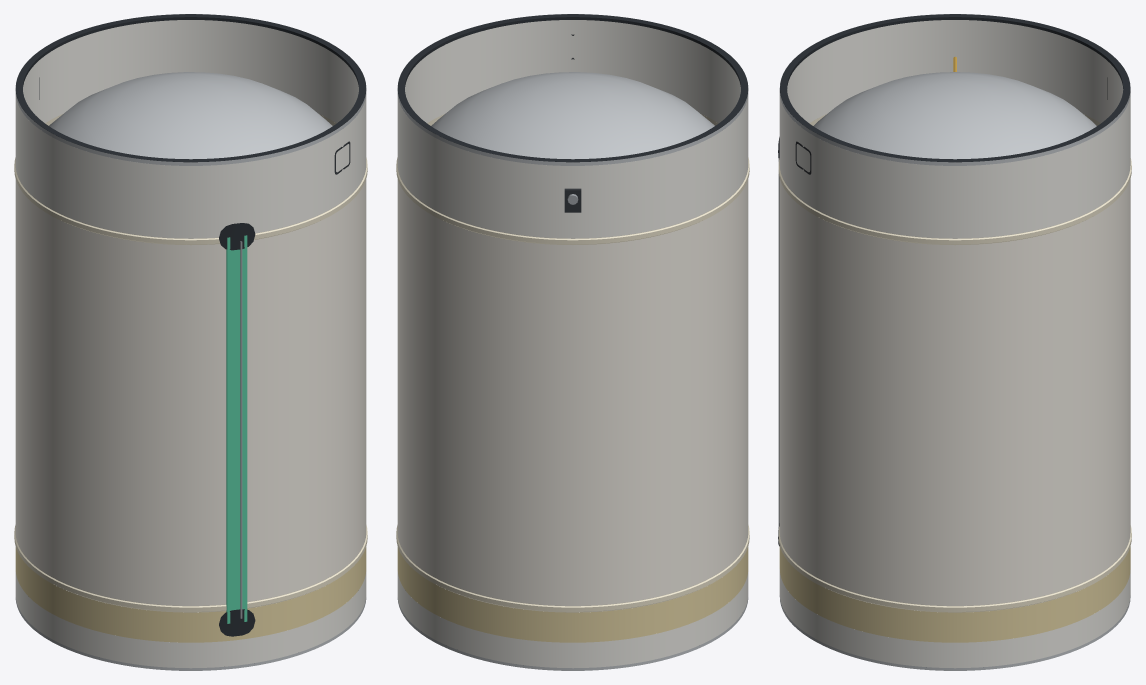
Rendered from dcss_lh2.glb.
3 renders of one model, left to right at view 1: azimuth 30°, elevation 25°; view 2: azimuth 150°, elevation 25°; view 3: azimuth 270°, elevation 25°, orthographic.
Visible parts, largest first — view 1: shell, detail, slot_bulkhead, slot_bulkhead__common, frames; view 2: shell, slot_bulkhead, slot_bulkhead__common, detail, frames; view 3: shell, slot_bulkhead, slot_bulkhead__common, detail, frames.
Boxes of the visible parts, <box> form: shell: <box>15,14,366,670</box>; detail: <box>14,77,367,636</box>; slot_bulkhead: <box>49,72,332,159</box>; slot_bulkhead__common: <box>101,73,328,147</box>; frames: <box>15,14,366,162</box>; shell: <box>397,14,748,670</box>; slot_bulkhead: <box>431,72,714,159</box>; slot_bulkhead__common: <box>439,73,712,149</box>; detail: <box>396,34,749,612</box>; frames: <box>397,14,748,162</box>; shell: <box>779,14,1130,670</box>; slot_bulkhead: <box>813,72,1096,159</box>; slot_bulkhead__common: <box>817,73,1045,145</box>; detail: <box>778,77,1131,612</box>; frames: <box>780,14,1130,162</box>.
Bounding box in the file's own units: 3.4 × 5.4 × 3.4.
